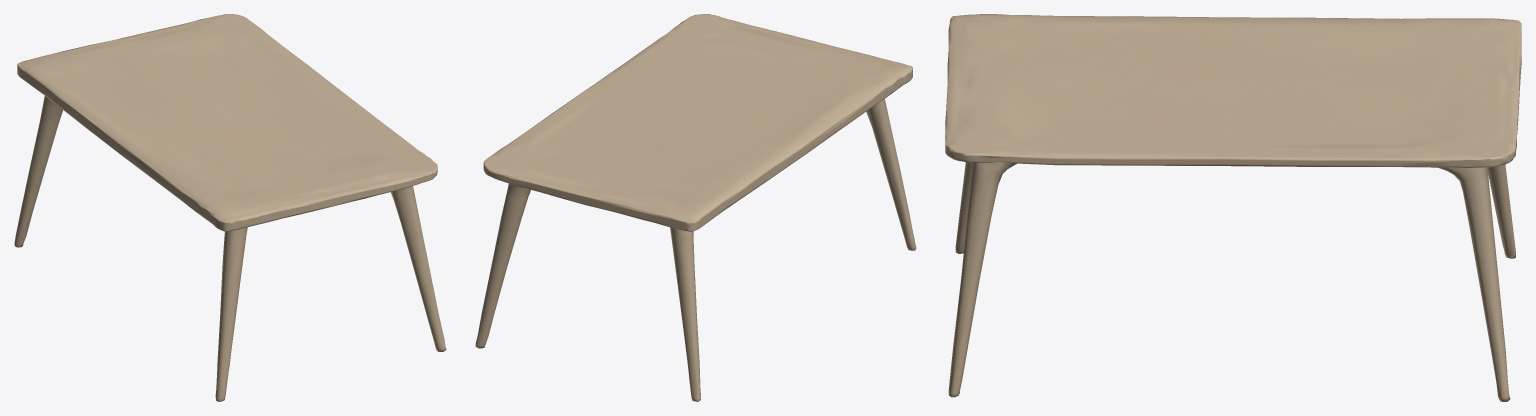
3 renders of one model, left to right at view 1: azimuth 30°, elevation 25°; view 2: azimuth 150°, elevation 25°; view 3: azimuth 270°, elevation 25°, orthographic. The views are drawn at different scales.
Parts seen in each view (by area): view 1: tripo_node_686697e2-9876-4678-ab40-aac9825840f5; view 2: tripo_node_686697e2-9876-4678-ab40-aac9825840f5; view 3: tripo_node_686697e2-9876-4678-ab40-aac9825840f5.
Part boxes in pixels (box(x1,y1,x2,y2)): tripo_node_686697e2-9876-4678-ab40-aac9825840f5: box(14, 14, 446, 401); tripo_node_686697e2-9876-4678-ab40-aac9825840f5: box(475, 14, 916, 401); tripo_node_686697e2-9876-4678-ab40-aac9825840f5: box(945, 14, 1521, 401).
Bounding box in the file's own units: 0.6152 × 0.4668 × 0.998.
Materials: 1 (1 with a texture image).
